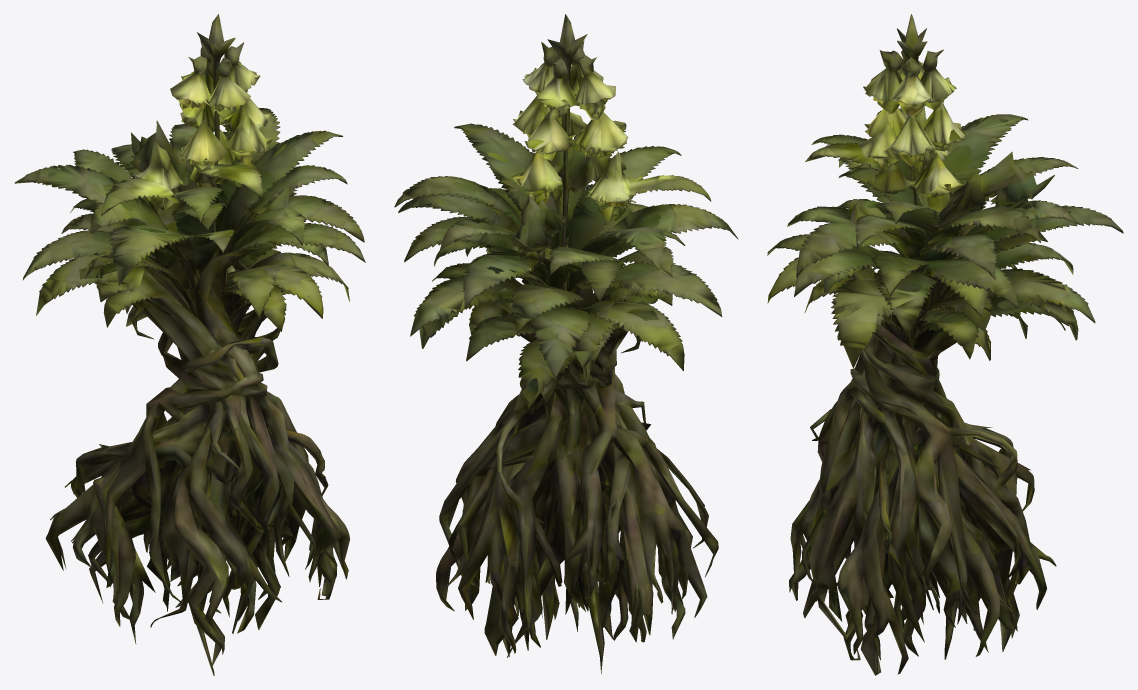
Rendered from herb.glb.
3 renders of one model, left to right at view 1: azimuth 30°, elevation 25°; view 2: azimuth 150°, elevation 25°; view 3: azimuth 270°, elevation 25°, orthographic. The views are drawn at different scales.
Parts seen in each view (by area): view 1: material; view 2: material; view 3: material.
Boxes of the visible parts, <box> form: material: <box>14,14,365,675</box>; material: <box>394,14,738,673</box>; material: <box>767,14,1123,675</box>.
Bounding box in the file's own units: 0.5719 × 1.12 × 0.5696.
1 material, 1 textured.
